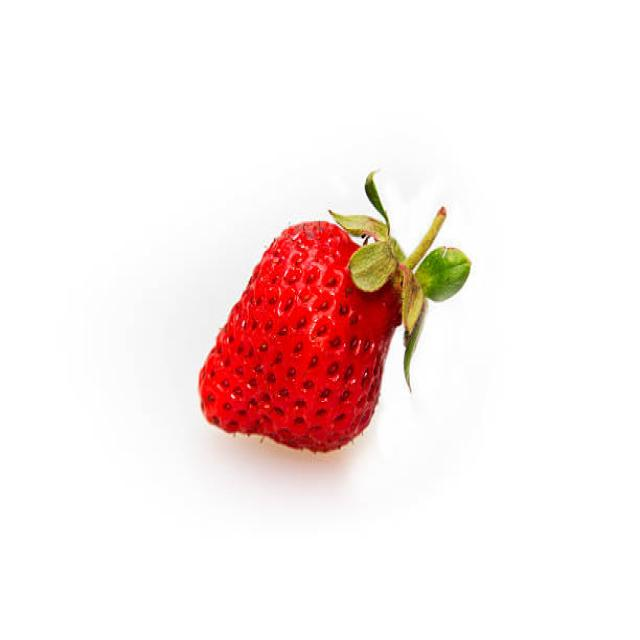Healthy Fruit: (198, 218, 395, 452)
